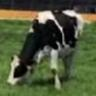cow: (7, 10, 83, 89)
